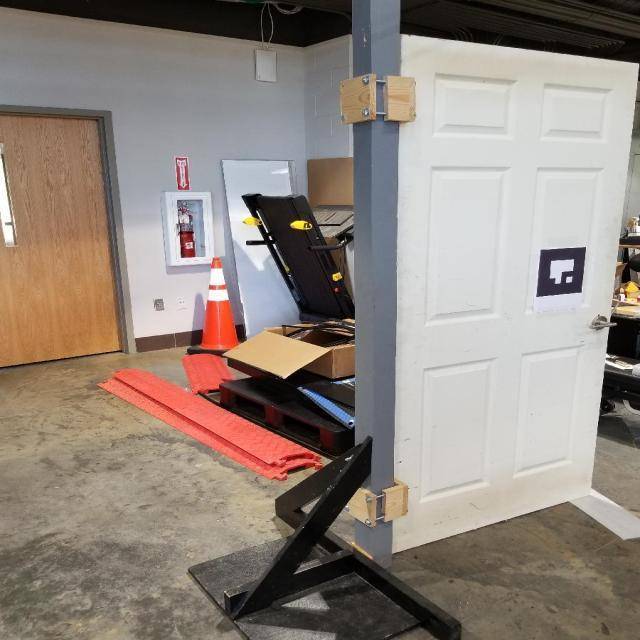door: (386, 32, 640, 554), (582, 312, 618, 334)
